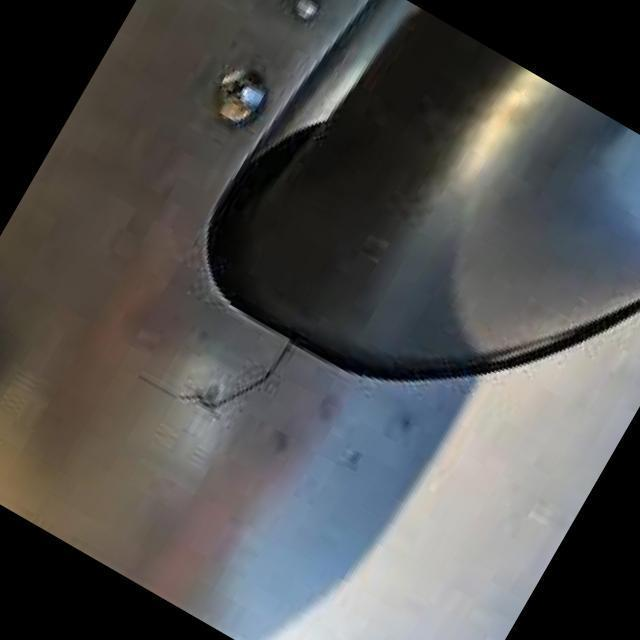defect: (132, 335, 298, 416)
